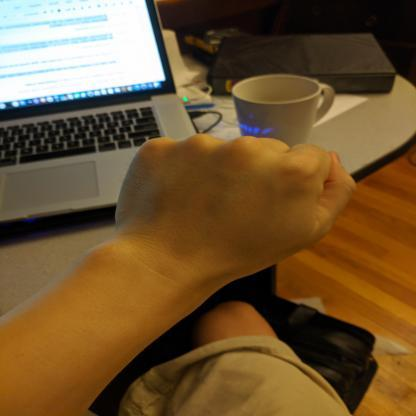A: (104, 127, 362, 279)
